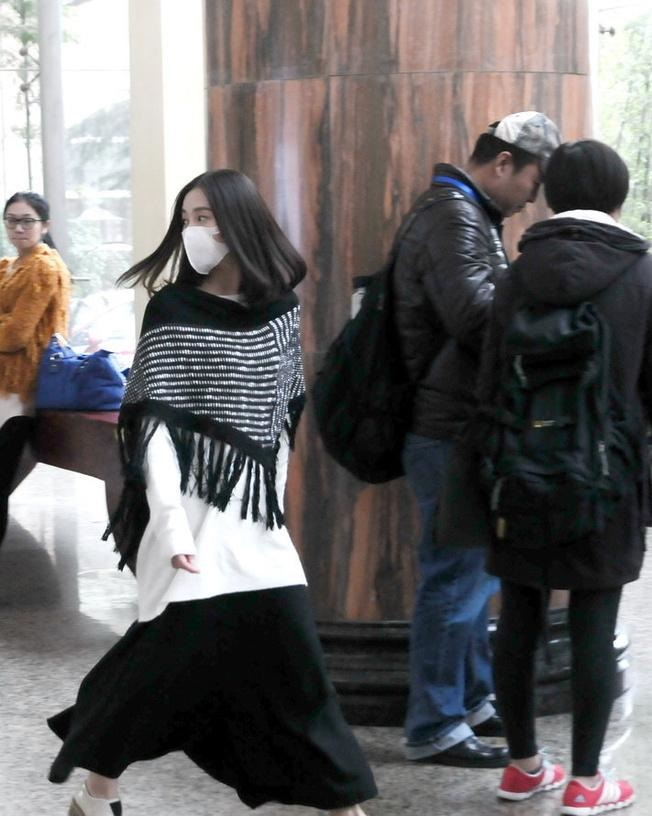face: (500, 157, 546, 215), (5, 202, 39, 250)
face_mask: (175, 184, 231, 273)
